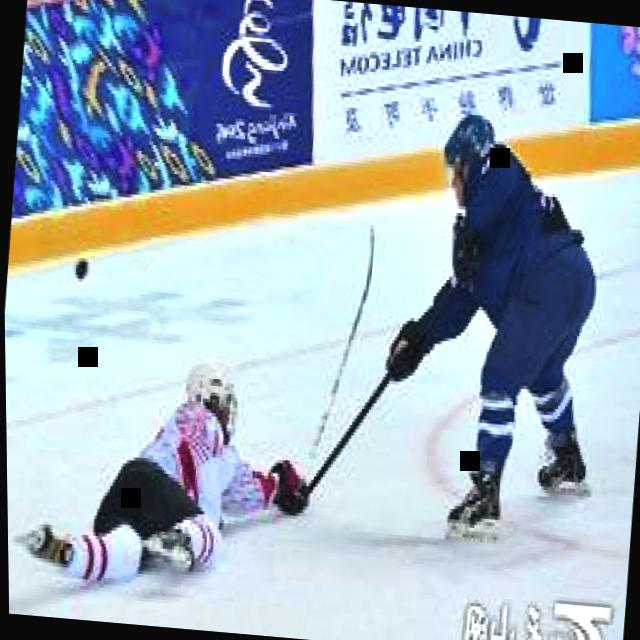Fall-Detected: (4, 317, 341, 616)
